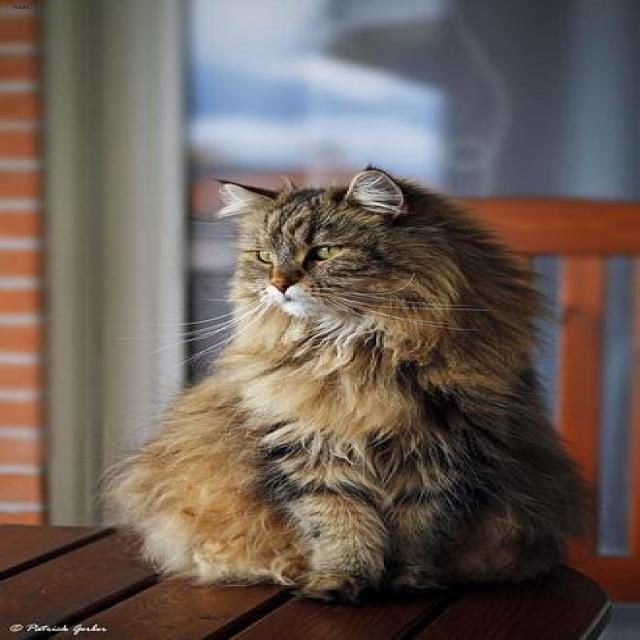cat: (128, 167, 576, 601)
